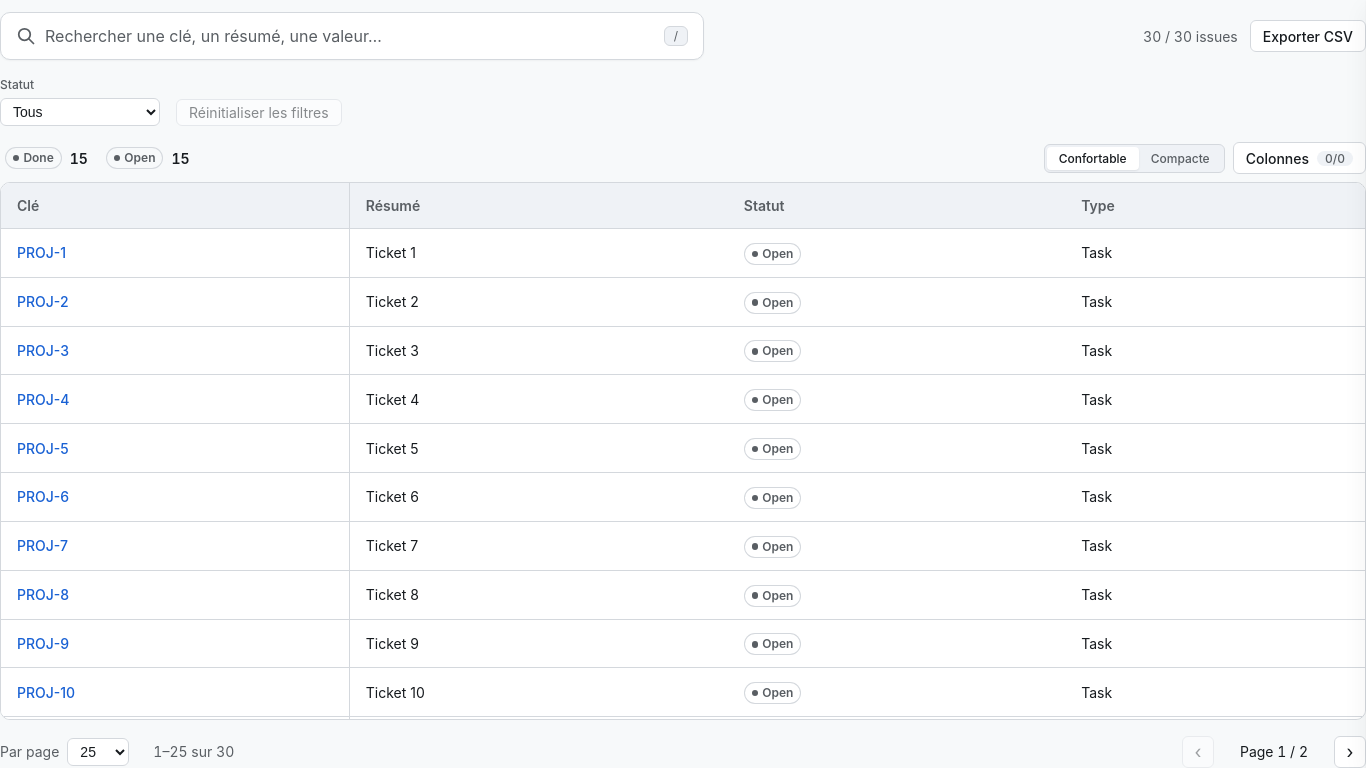
Scenario: IssueList › pagination › goes back to page 1 when a filter changes
(page scrolled)
Click the button named "Page suivante". click: [1350, 752]
box: [1334,736,1365,767]
(page scrolled)
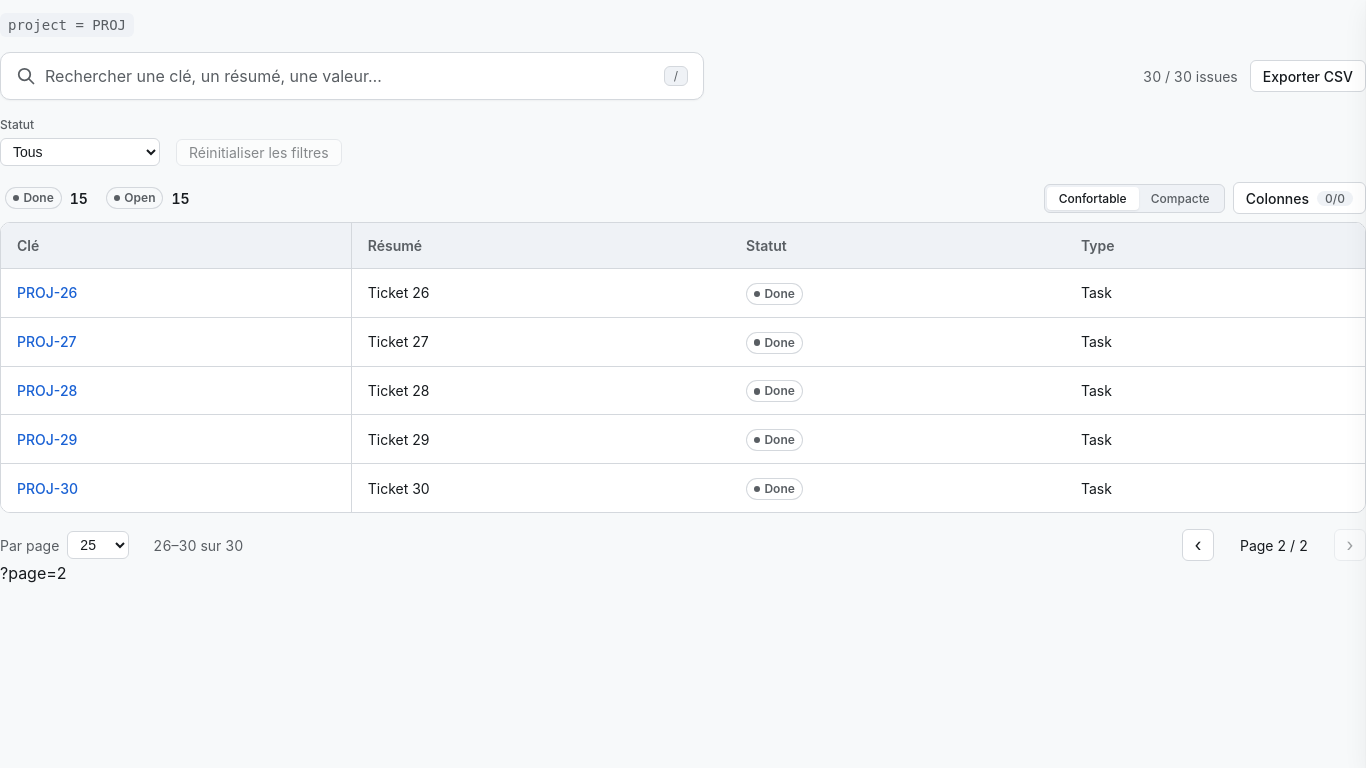
Select "Done" in the dropdown labelled "Statut". click: [80, 152]
box: [0,138,160,166]
(page scrolled)
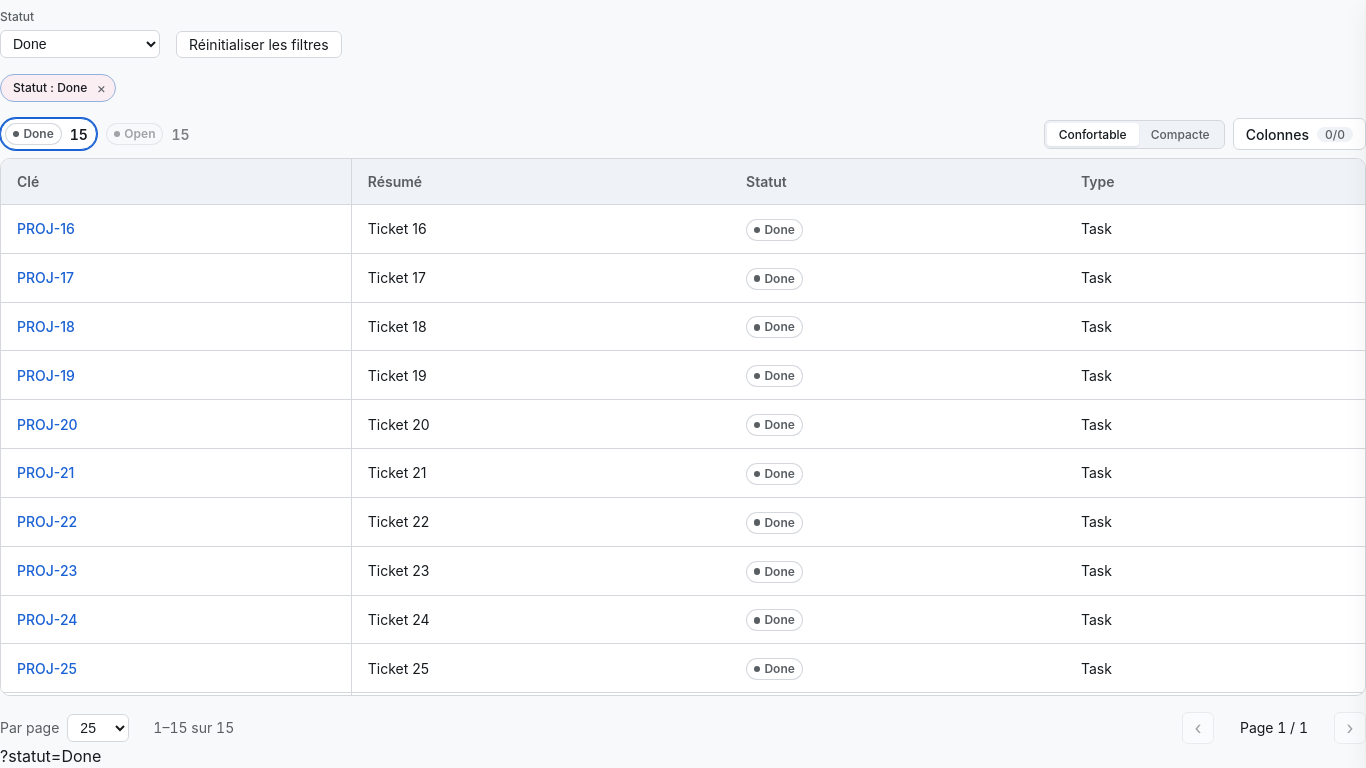
Result: the button "PROJ-16" is shown at [17,218,75,239]
Result: the text "1–15 sur 15" is shown at [153,717,234,738]
